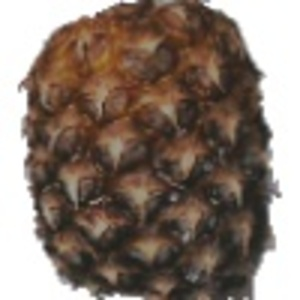abacaxi: (19, 3, 283, 294)
